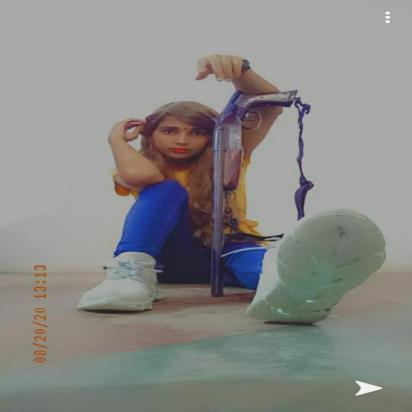Gun: (199, 88, 302, 300)
